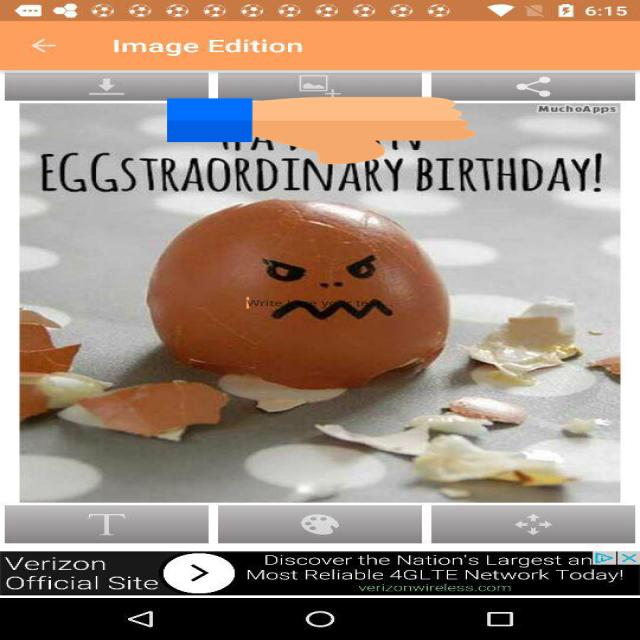obstruction: (167, 95, 475, 166)
